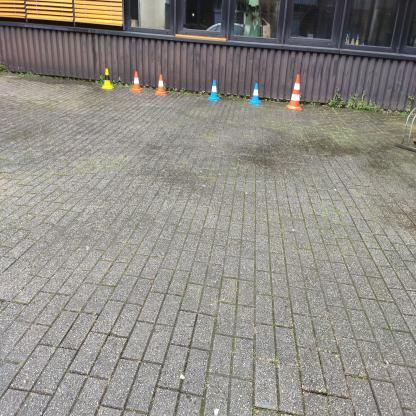Cones_big: (289, 73, 304, 114)
Cones_small_blue: (203, 76, 225, 106), (250, 82, 260, 106)
Cones_small_orange: (153, 72, 171, 99), (130, 70, 142, 92)
Cones_small_yellow: (102, 64, 114, 93)
